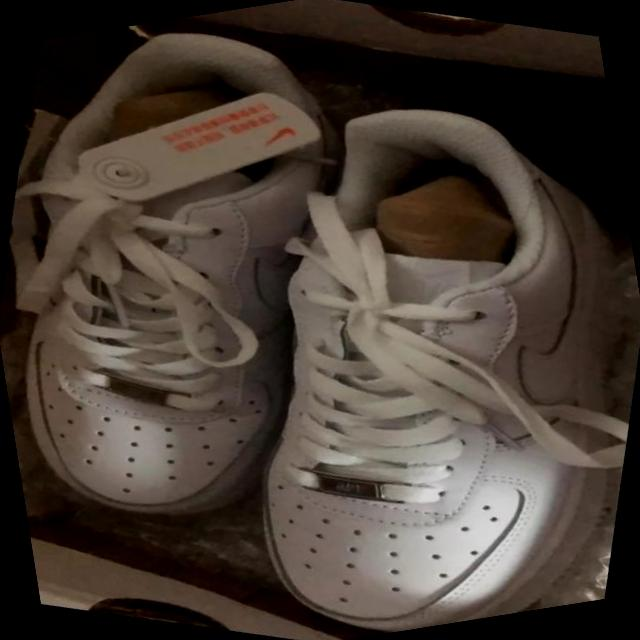nike_fake_airforce: (153, 41, 640, 640), (0, 0, 423, 575)
